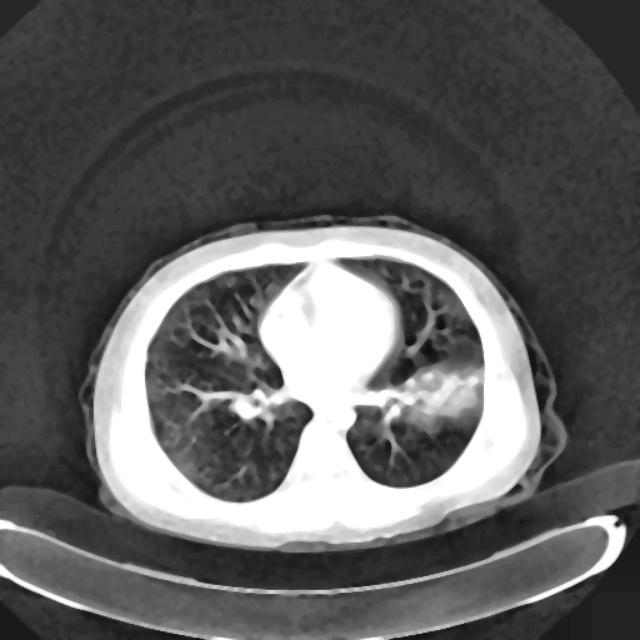covid: (78, 212, 566, 553)
